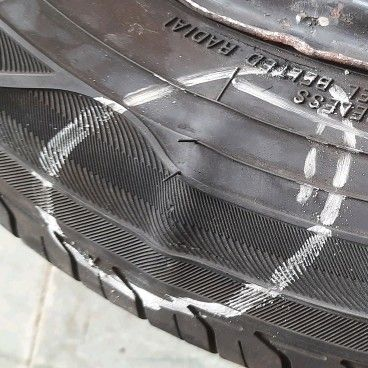CBU: (146, 113, 227, 274)
